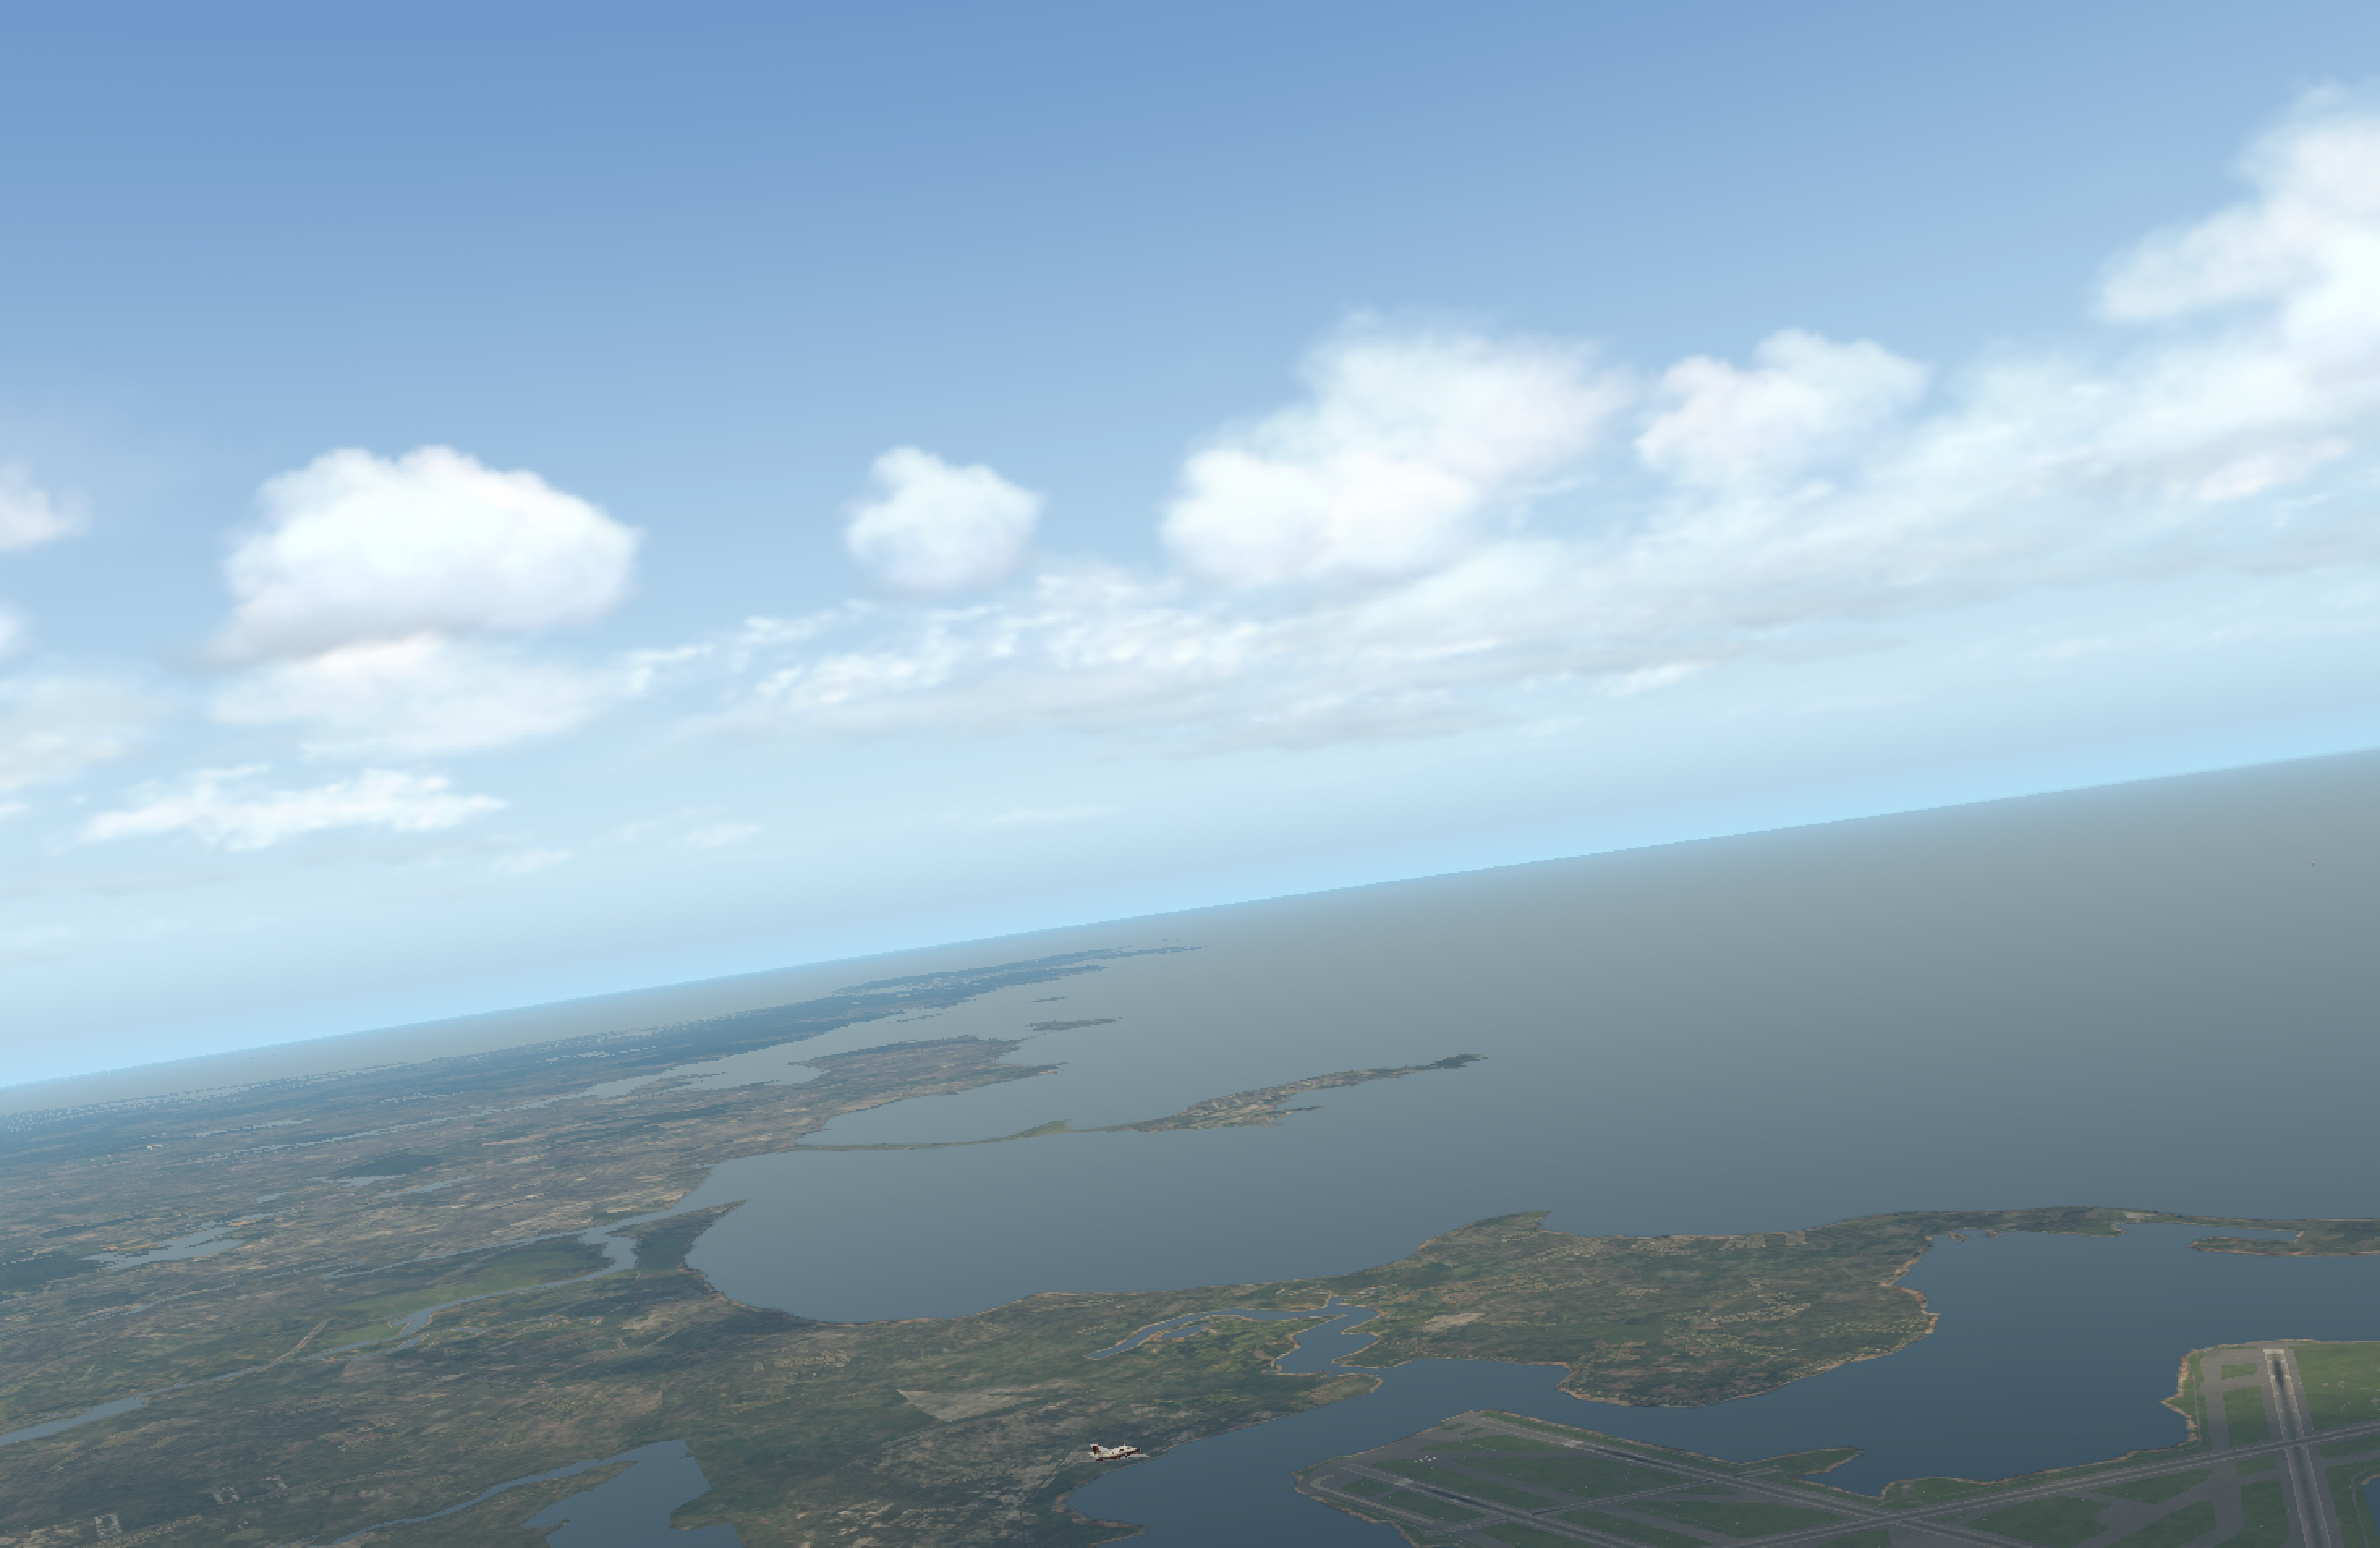aircraft: (1081, 1440, 1164, 1470)
